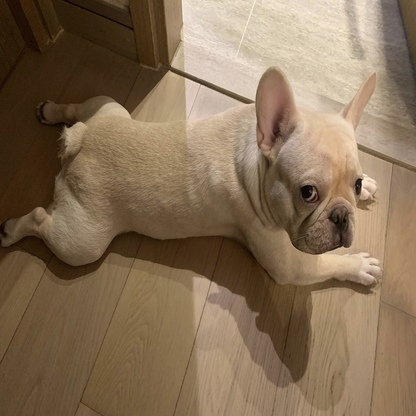bulldog: (1, 62, 385, 291)
